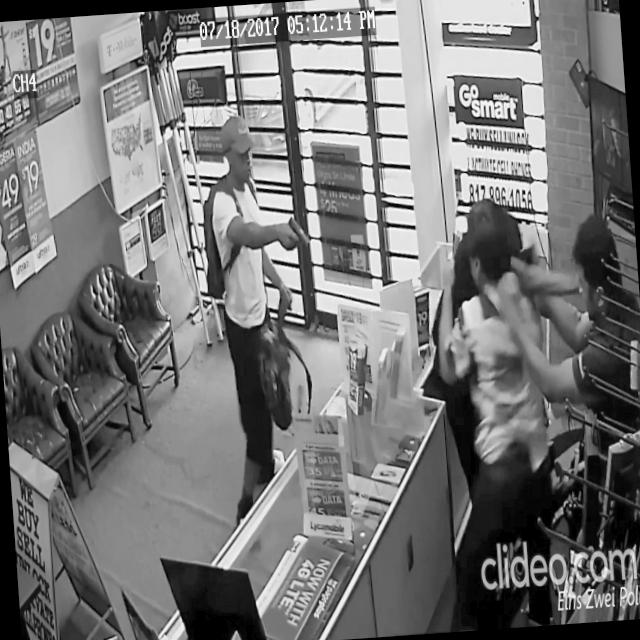gun: (286, 214, 312, 251)
person: (422, 194, 614, 632), (491, 212, 640, 627), (428, 194, 564, 631)
person with a gun: (195, 110, 332, 536)
